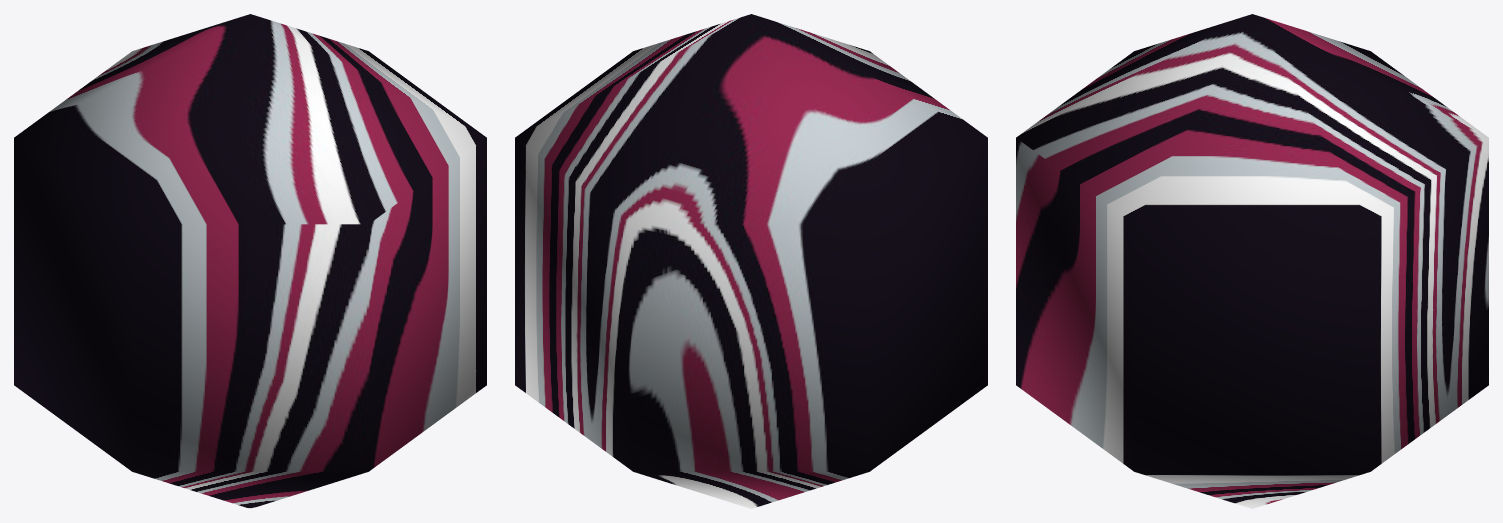
Rendered from octopusmarble_shooter.DAE.
3 renders of one model, left to right at view 1: azimuth 30°, elevation 25°; view 2: azimuth 150°, elevation 25°; view 3: azimuth 270°, elevation 25°, orthographic.
Parts seen in each view (by area): view 1: Shooter_C; view 2: Shooter_C; view 3: Shooter_C.
Boxes of the visible parts, x1,y1,x2,y2 form: Shooter_C: [14, 14, 486, 508]; Shooter_C: [515, 14, 987, 508]; Shooter_C: [1016, 14, 1488, 508].
Size of the model in its own units: 0.0381 by 0.044 by 0.0508.
Materials: 1 (1 with a texture image).
